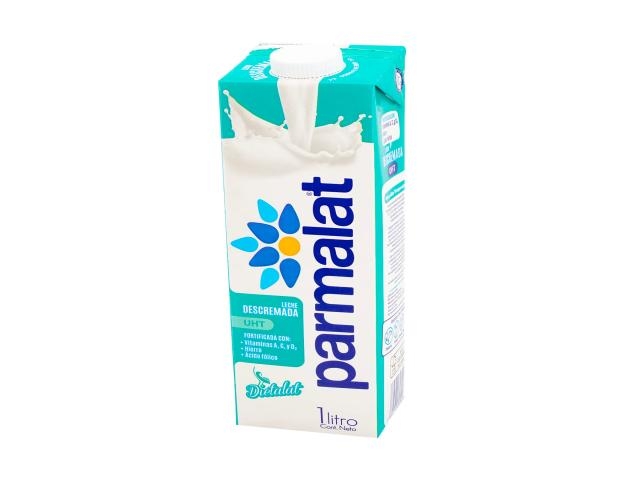drink_box: (211, 35, 414, 445)
